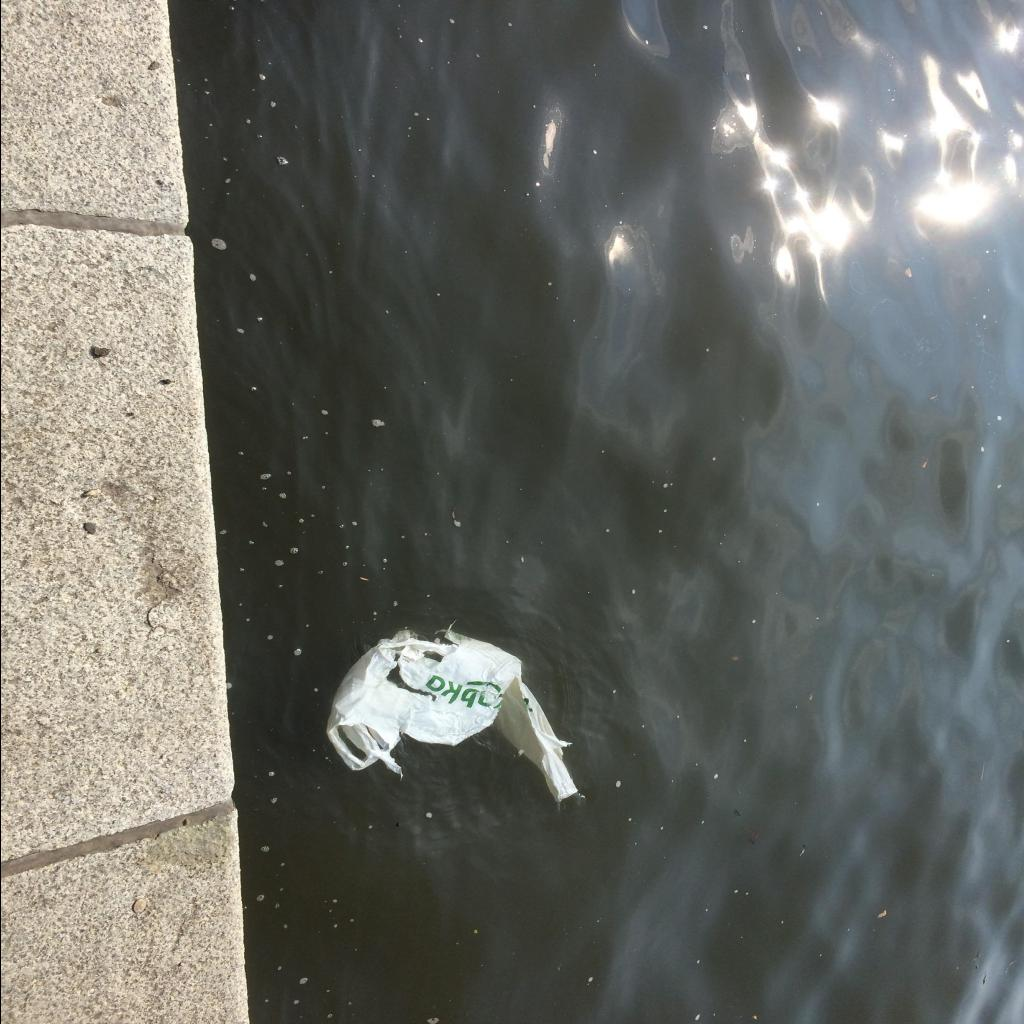Single-use carrier bag: (326, 620, 578, 802)
